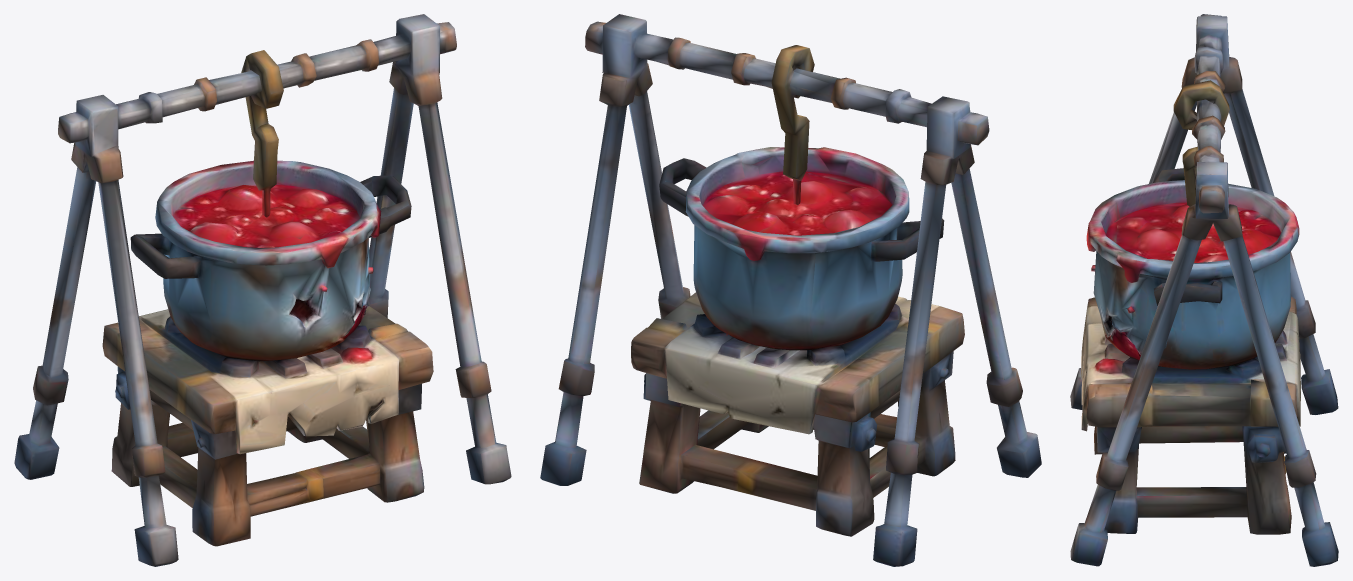
Rendered from guojiangguo-1.glb.
3 renders of one model, left to right at view 1: azimuth 30°, elevation 25°; view 2: azimuth 150°, elevation 25°; view 3: azimuth 270°, elevation 25°, orthographic. The views are drawn at different scales.
Parts seen in each view (by area): view 1: node_0; view 2: node_0; view 3: node_0.
Boxes of the visible parts, x1=… form: node_0: x1=14, y1=14, x2=511, y2=566; node_0: x1=540, y1=14, x2=1041, y2=566; node_0: x1=1070, y1=14, x2=1338, y2=566.
Bounding box in the file's own units: 0.797 × 0.8379 × 0.5052.
1 material, 1 textured.
